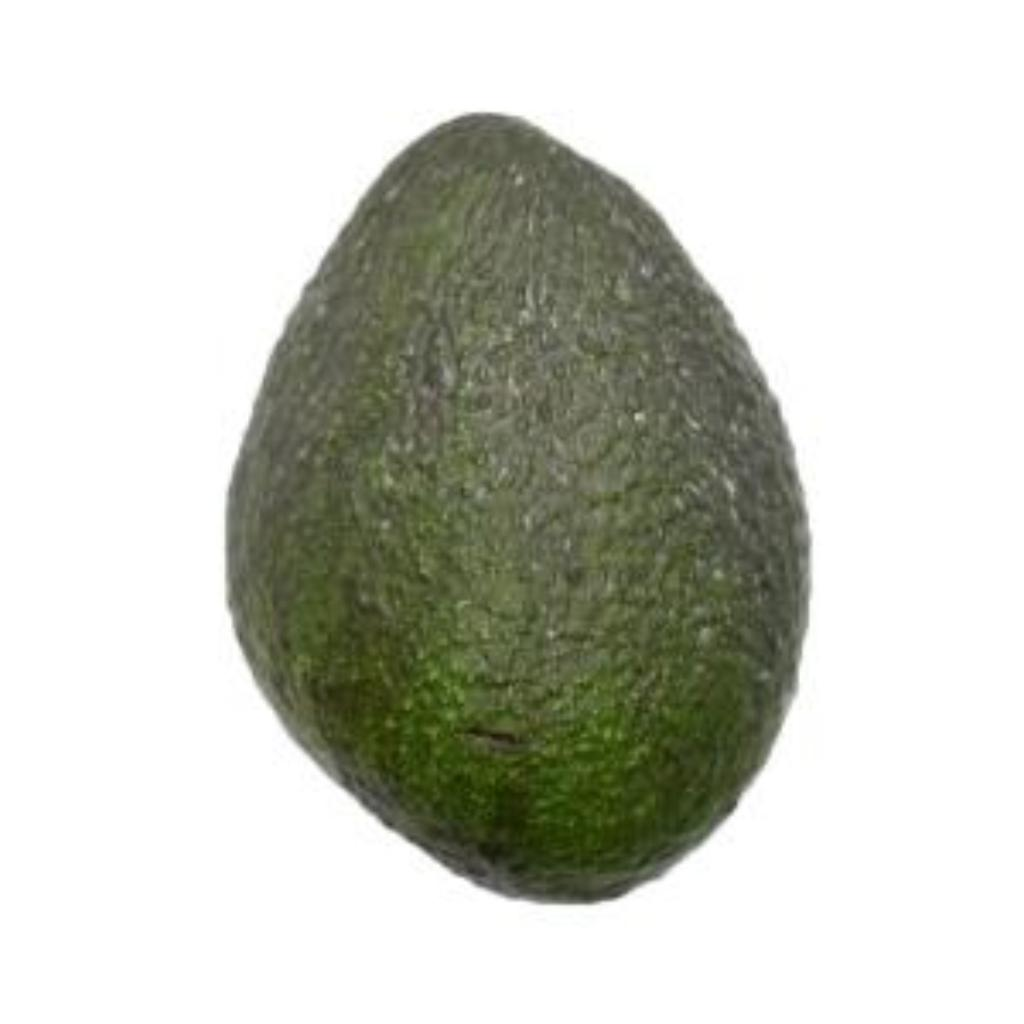cercospora_spot: (218, 116, 836, 922)
